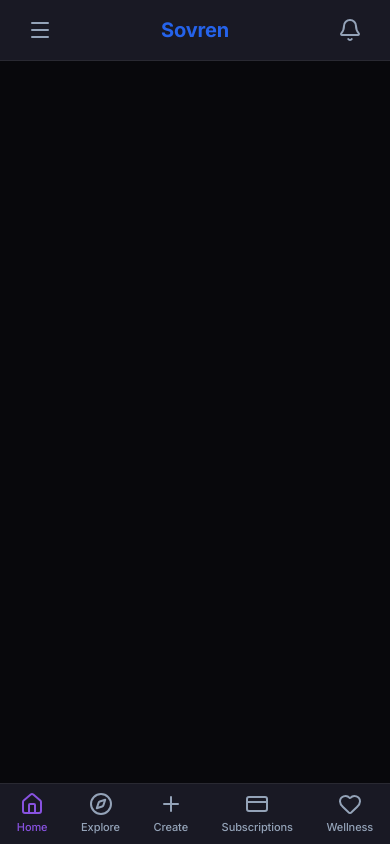
Test case: 📱 Mobile Navigation Test Suite › 🍔 Mobile Menu System - US-086.3 › should close mobile menu when close button clicked
// Open menu
Click the button named "Open menu".
click(40, 30)  # box [16,12,64,48]
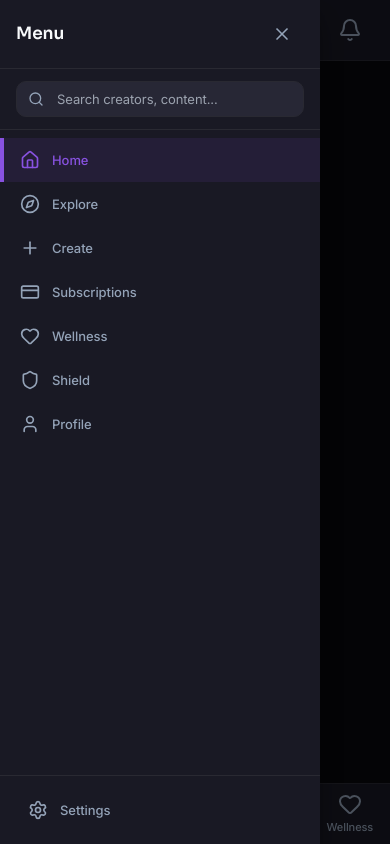
Expected: the heading "Menu" is shown, [16,21,64,47]
// Close menu
Click the button named "Close menu".
click(282, 34)  # box [260,16,304,52]
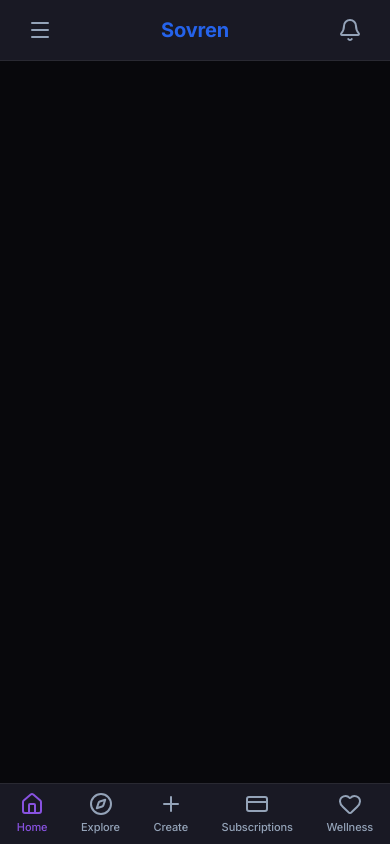
Expected: the heading "Menu" is gone
